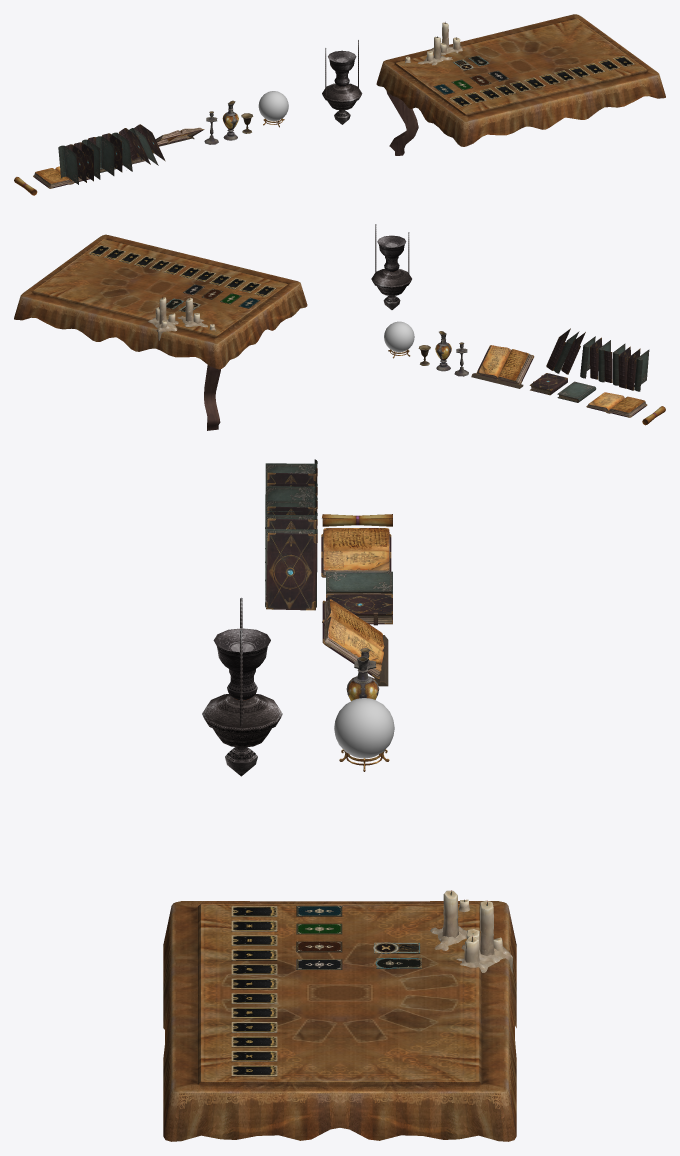
3 renders of one model, top to bottom at view 1: azimuth 30°, elevation 25°; view 2: azimuth 150°, elevation 25°; view 3: azimuth 270°, elevation 25°, orthographic. The views are drawn at different scales.
Parts seen in each view (by area): view 1: f_desk, f_books, f_biglight, f_cutball, f_book_d, f_book_b, f_candle_c, f_cutball_b, f_candle_b; view 2: f_desk, f_books, f_biglight, f_book_b, f_book_d, f_cutball, f_candle_c, f_book_a, f_book_c, f_cutball_b, f_candle_b; view 3: f_desk, f_books, f_biglight, f_book_d, f_book_b, f_cutball, f_candle_c, f_book_c, f_book_a, f_candle_b.
Boxes of the visible parts, <box> form: f_desk: <box>376,14,665,155</box>; f_books: <box>58,124,165,184</box>; f_biglight: <box>322,40,362,124</box>; f_cutball: <box>258,91,288,121</box>; f_book_d: <box>33,166,89,188</box>; f_book_b: <box>155,127,204,146</box>; f_candle_c: <box>429,22,462,55</box>; f_cutball_b: <box>222,100,238,140</box>; f_candle_b: <box>417,36,452,65</box>; f_desk: <box>14,234,307,430</box>; f_books: <box>546,328,649,391</box>; f_biglight: <box>371,224,411,309</box>; f_book_b: <box>471,345,534,388</box>; f_book_d: <box>586,392,647,417</box>; f_cutball: <box>384,321,414,352</box>; f_candle_c: <box>148,297,178,340</box>; f_book_a: <box>529,373,567,395</box>; f_book_c: <box>557,381,596,402</box>; f_cutball_b: <box>435,331,451,371</box>; f_candle_b: <box>177,297,207,327</box>; f_desk: <box>163,901,516,1141</box>; f_books: <box>265,459,317,610</box>; f_biglight: <box>202,597,282,776</box>; f_book_d: <box>321,528,391,577</box>; f_book_b: <box>322,599,388,686</box>; f_cutball: <box>334,698,394,758</box>; f_candle_c: <box>456,900,512,973</box>; f_book_c: <box>326,571,392,594</box>; f_book_a: <box>326,594,392,625</box>; f_candle_b: <box>430,890,466,950</box>.
Size of the model in its own units: 15711 by 4592 by 4023.
